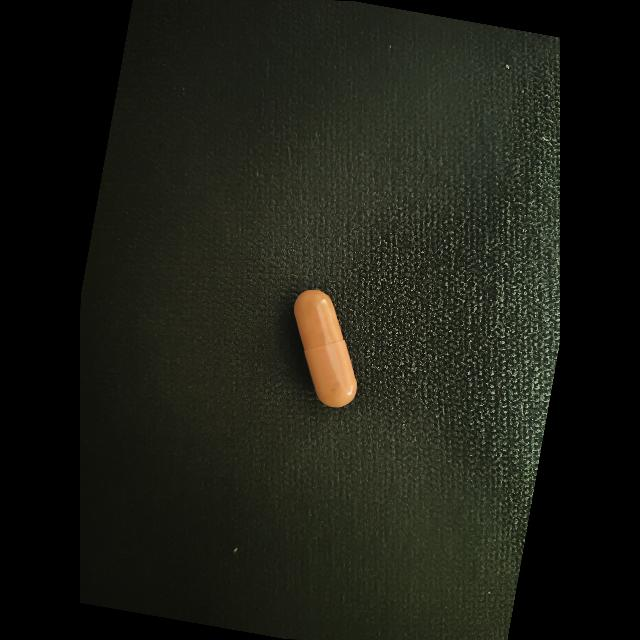Intact Capsule: (294, 289, 357, 408)
